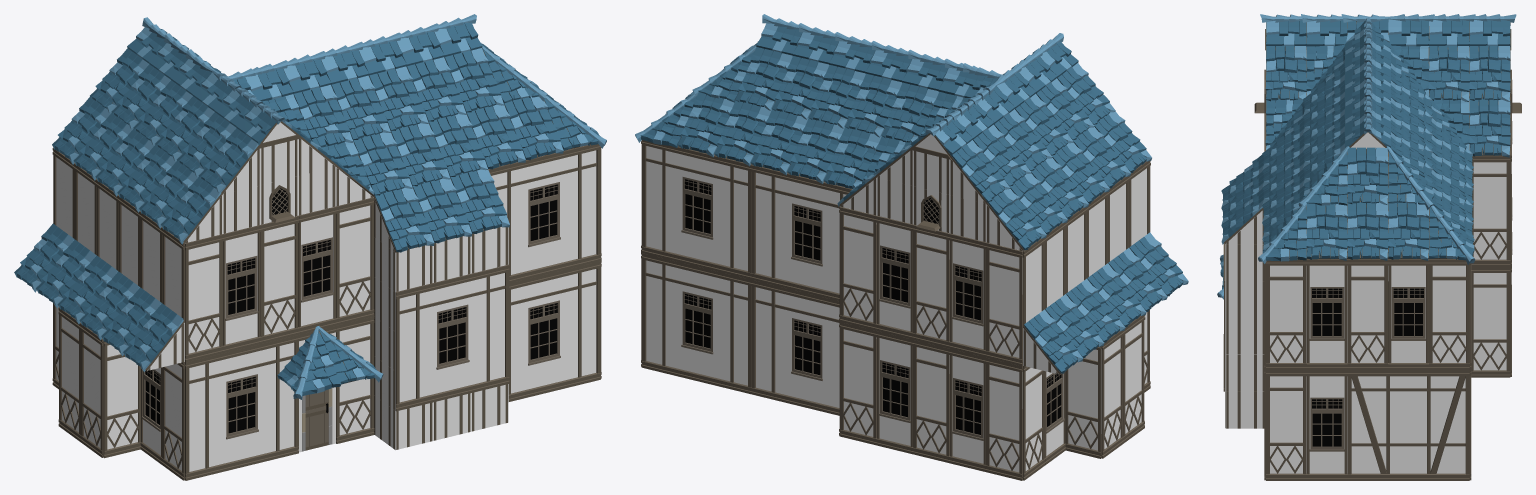
Rendered from House_19_full.fbx.
3 renders of one model, left to right at view 1: azimuth 30°, elevation 25°; view 2: azimuth 150°, elevation 25°; view 3: azimuth 270°, elevation 25°, orthographic. The views are drawn at different scales.
Parts seen in each view (by area): view 1: WINDOW_03_9, WINDOW_03_2, WINDOW_03_8, WINDOW_03_7, WALL_01_22, WALL_01_23, WINDOW_04_13, WALL_01_21, WINDOW_04_12, WALL_01_4, WALL_01_2, WALL_01_5 (+79 smaller); view 2: WINDOW_03_4, WINDOW_03_5, WINDOW_03_6, WINDOW_03_3, WALL_01_14, WALL_01_12, WALL_01_9, WALL_01_11, WALL_01_10, WALL_01_13, WINDOW_04_8, WINDOW_04_7 (+66 smaller); view 3: WALL_02_2, WALL_01_18, WINDOW_04_9, WINDOW_04_10, WALL_01_19, WINDOW_04_11, WALL_01_20, WALL_01_17, WALL_01_15, WALL_01_16, ROOF_base_52, ROOF_base_54 (+61 smaller).
Part boxes in pixels (<box>): WINDOW_03_9: <box>395,264,509,411</box>; WINDOW_03_2: <box>185,335,299,480</box>; WINDOW_03_8: <box>488,144,601,283</box>; WINDOW_03_7: <box>508,261,601,401</box>; WALL_01_22: <box>260,216,298,343</box>; WALL_01_23: <box>185,234,223,362</box>; WINDOW_04_13: <box>223,225,261,352</box>; WALL_01_21: <box>336,197,374,325</box>; WINDOW_04_12: <box>298,206,336,334</box>; WALL_01_4: <box>103,341,140,458</box>; WALL_01_2: <box>336,316,374,443</box>; WALL_01_5: <box>80,323,103,457</box>; WINDOW_03_4: <box>641,253,751,394</box>; WINDOW_03_5: <box>641,140,751,279</box>; WINDOW_03_6: <box>751,164,852,301</box>; WINDOW_03_3: <box>751,280,839,415</box>; WALL_01_14: <box>985,242,1022,366</box>; WALL_01_12: <box>839,206,876,330</box>; WALL_01_9: <box>985,357,1022,480</box>; WALL_01_11: <box>839,322,876,445</box>; WALL_01_10: <box>912,340,949,462</box>; WALL_01_13: <box>912,224,949,348</box>; WINDOW_04_8: <box>949,233,985,357</box>; WINDOW_04_7: <box>876,215,912,339</box>; WALL_02_2: <box>1347,370,1469,480</box>; WALL_01_18: <box>1347,259,1388,370</box>; WINDOW_04_9: <box>1307,259,1347,370</box>; WINDOW_04_10: <box>1388,259,1428,370</box>; WALL_01_19: <box>1429,259,1469,370</box>; WINDOW_04_11: <box>1307,370,1347,480</box>; WALL_01_20: <box>1266,370,1306,480</box>; WALL_01_17: <box>1266,259,1306,370</box>; WALL_01_15: <box>1471,267,1510,377</box>; WALL_01_16: <box>1471,155,1510,266</box>; ROOF_base_52: <box>1347,202,1388,260</box>; ROOF_base_54: <box>1347,147,1388,204</box>.
Bounding box in the file's own units: 1231 × 865 × 749.
